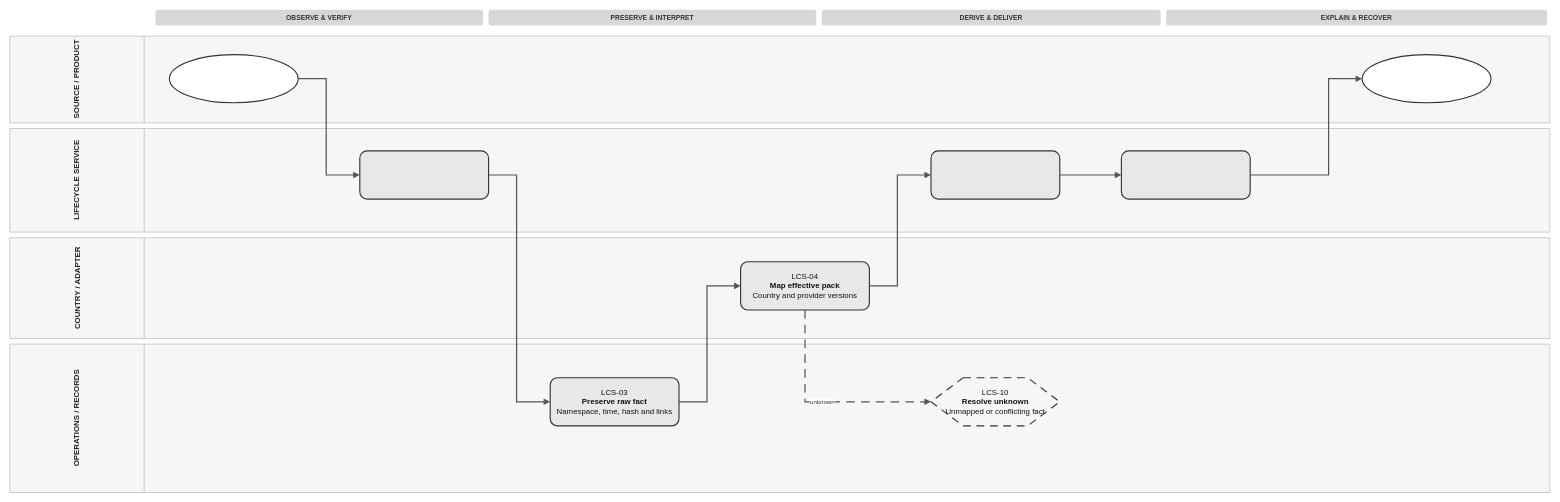
The diagram is 1560 pixels wide and 502 high, and some of its shapes have lost their labels. The shapes that lost their labels are listed below. From the top down, each one's centre as x and y in pixels, then its label:
At point (233, 78): "LCS-01 Receive event Platform, ERP or buyer source".
At point (1426, 78): "END Show history Raw events remain available".
At point (424, 174): "LCS-02 Verify context Actor, invoice and original route".
At point (995, 174): "LCS-05 Derive dimensions Exchange, commercial, payment".
At point (1185, 174): "LCS-06 Publish safe view Source, freshness, next action".
